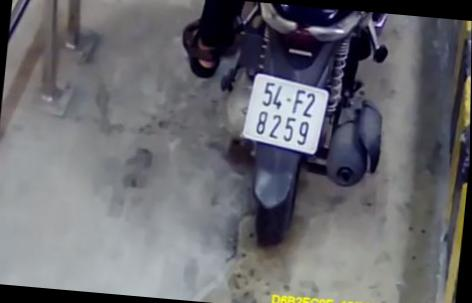LP: (238, 67, 333, 156)
